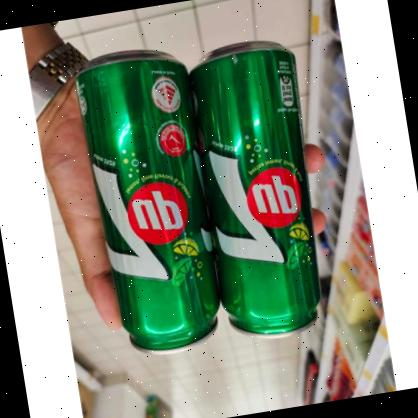can: (76, 42, 228, 362), (184, 35, 338, 346)
